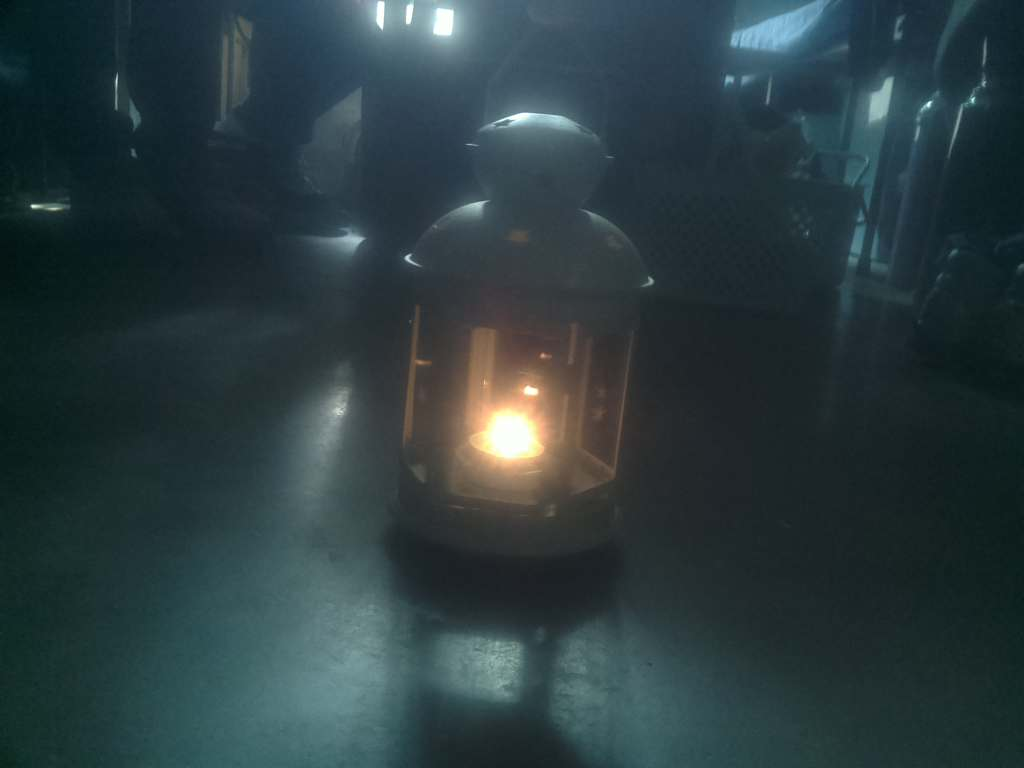fire: (453, 384, 592, 493)
